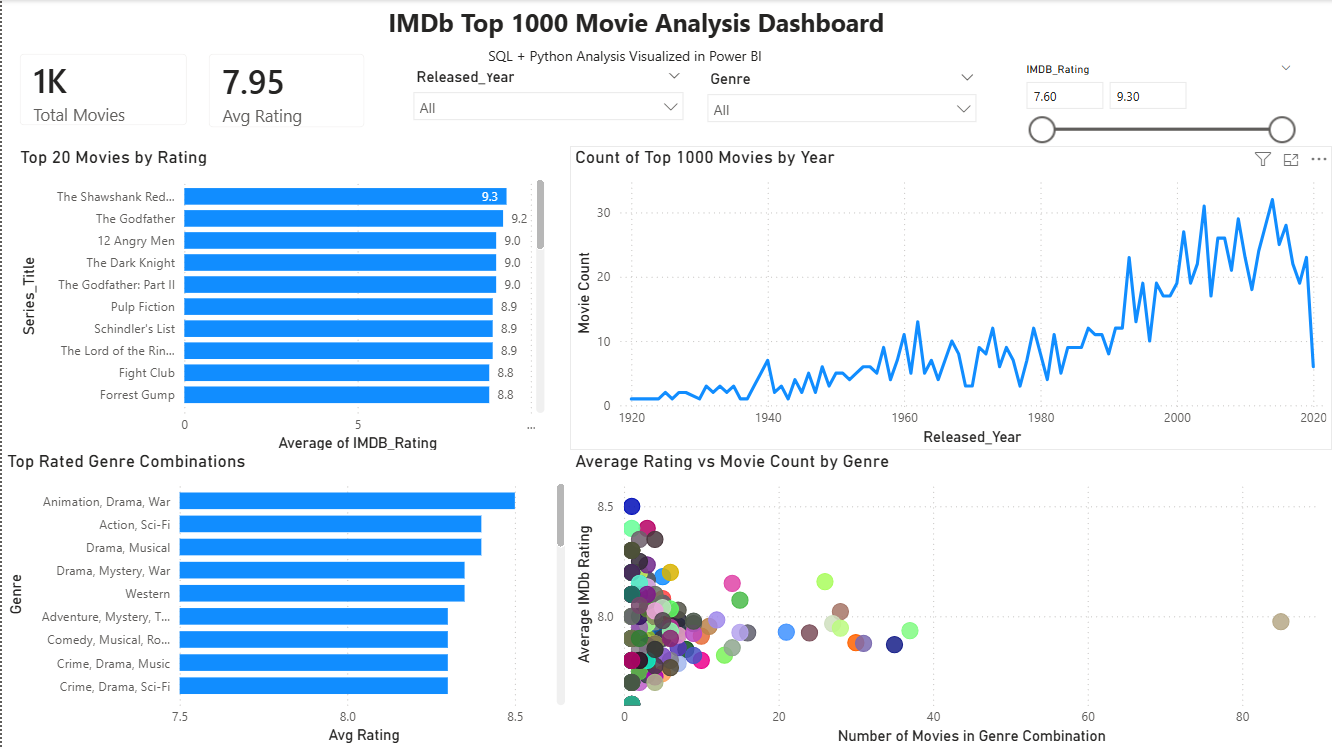

What the dashboard file says about the page in this screenshot:
{"tool":"powerbi","page":{"name":"Page 1","canvas":[1280,720],"ordinal":0},"visuals":[{"type":"slicer","fields":{"Values":["imdb_top_1000.Released_Year"]},"box":[386.3,60.6,280.4,70.9],"z":0},{"type":"slicer","fields":{"Values":["imdb_top_1000.Genre"]},"box":[668.8,62.7,279.4,67.8],"z":1000},{"type":"slicer","fields":{"Values":["imdb_top_1000.IMDB_Rating"]},"box":[972.8,54.4,280.4,88.3],"z":2000},{"type":"cardVisual","fields":{"Data":["imdb_top_1000.Total Movies"]},"box":[0,34.9,195.2,103.8],"z":3000},{"type":"cardVisual","fields":{"Data":["imdb_top_1000.Avg Rating"]},"box":[181.8,34.9,184.9,105.8],"z":4000},{"type":"barChart","title":"Top 20 Movies by Rating","fields":{"Category":["imdb_top_1000.Series_Title"],"Y":["Avg(imdb_top_1000.IMDB_Rating)"]},"box":[12.3,140.7,514.7,298.9],"z":5000},{"type":"lineChart","title":"Count of Top 1000 Movies by Year","fields":{"Category":["imdb_top_1000.Released_Year"],"Y":["imdb_top_1000.Movie Count"]},"box":[546.7,140.5,733.5,292.6],"z":5001},{"type":"barChart","title":"Top Rated Genre Combinations","fields":{"Category":["imdb_top_1000.Genre"],"Y":["imdb_top_1000.Avg Rating"]},"box":[0,432.9,546.9,287.6],"z":5002},{"type":"scatterChart","title":"Average Rating vs Movie Count by Genre","fields":{"X":["imdb_top_1000.Movies per Genre"],"Y":["imdb_top_1000.Avg Rating"],"Series":["imdb_top_1000.Genre"]},"box":[546.7,433.2,733.5,287.8],"z":5003},{"type":"textbox","box":[366.7,0,602.7,42.4],"z":5004},{"type":"textbox","box":[463.3,39,300,30.8],"z":5005}]}

Visuals, with their boxes in screenshot pixels (x1, y1, x2, y2), scaled from the page's 1280x720 canvas onto the 1332x748 screenshot:
slicer - imdb_top_1000.Released_Year: <region>402, 63, 694, 137</region>
slicer - imdb_top_1000.Genre: <region>696, 65, 987, 136</region>
slicer - imdb_top_1000.IMDB_Rating: <region>1012, 57, 1304, 148</region>
cardVisual - imdb_top_1000.Total Movies: <region>0, 36, 203, 144</region>
cardVisual - imdb_top_1000.Avg Rating: <region>189, 36, 382, 146</region>
"Top 20 Movies by Rating" barChart: <region>13, 146, 548, 457</region>
"Count of Top 1000 Movies by Year" lineChart: <region>569, 146, 1331, 450</region>
"Top Rated Genre Combinations" barChart: <region>0, 450, 569, 747</region>
"Average Rating vs Movie Count by Genre" scatterChart: <region>569, 450, 1331, 747</region>
textbox: <region>382, 0, 1009, 44</region>
textbox: <region>482, 41, 794, 73</region>
